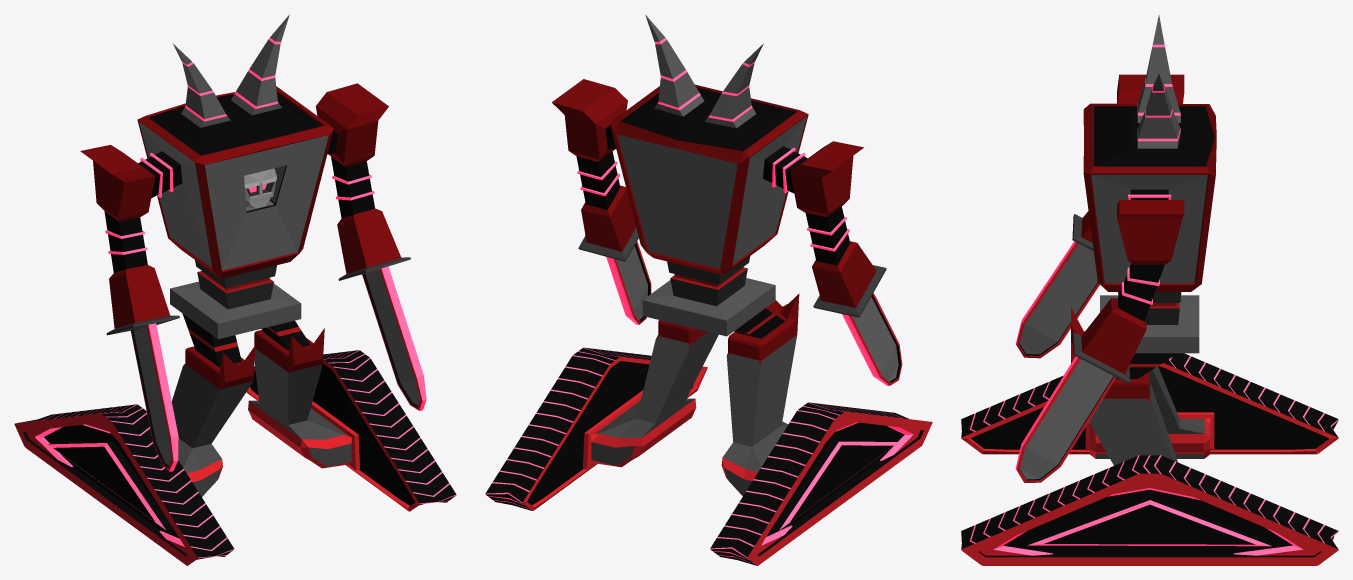
The model's file is BotChainsaw.fbx.
3 views of the same model, side by side, from view 1: azimuth 30°, elevation 25°; view 2: azimuth 150°, elevation 25°; view 3: azimuth 270°, elevation 25° (orthographic). The views are drawn at different scales.
Parts seen in each view (by area): view 1: ChainsawBot; view 2: ChainsawBot; view 3: ChainsawBot.
Boxes of the visible parts, left/top/right/bottom form: ChainsawBot: left=14, top=14, right=456, bottom=565; ChainsawBot: left=485, top=14, right=932, bottom=565; ChainsawBot: left=961, top=15, right=1338, bottom=565.
Size of the model in its own units: 667 by 1018 by 762.
